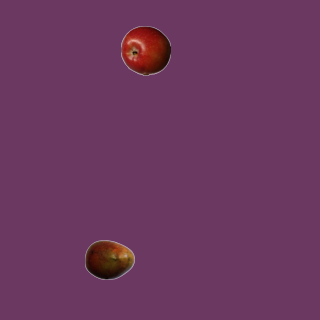Apple Braeburn: (120, 25, 170, 75)
Mango Red: (84, 234, 134, 284)
